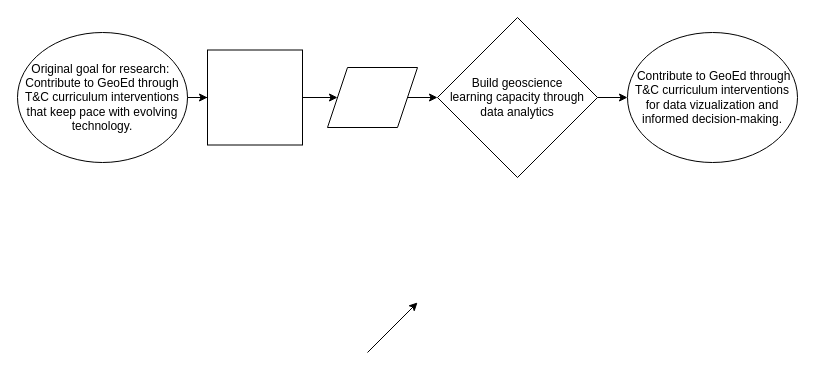
Image size: 815x378. Some labels were removed from this diagram. Here are the shapes that lost their labels. From the top down, the centre of each, then its label:
At pixel 254 97: "Warner coursework, experiences, and human interactions.".
At pixel 372 97: "Data visualization".
